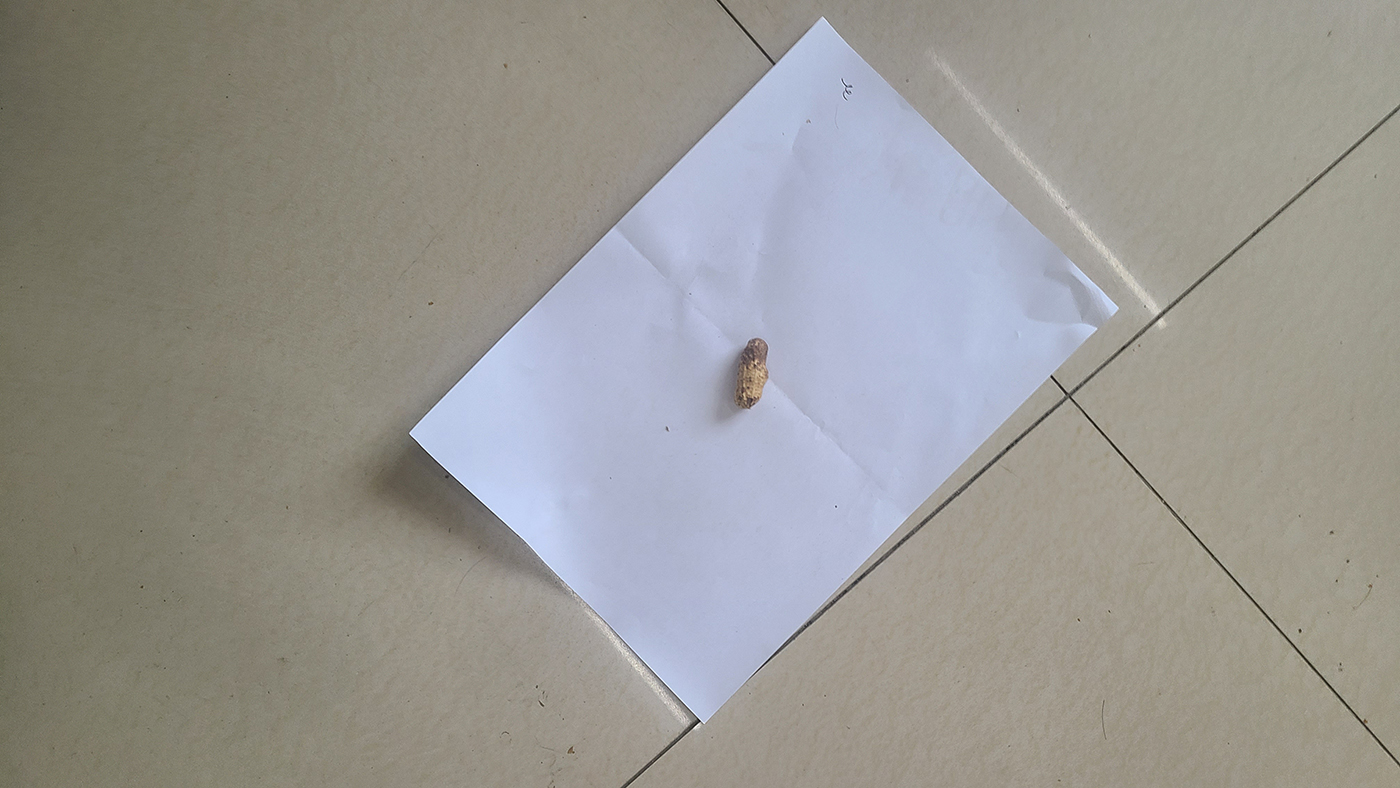h: (733, 337, 770, 407)
